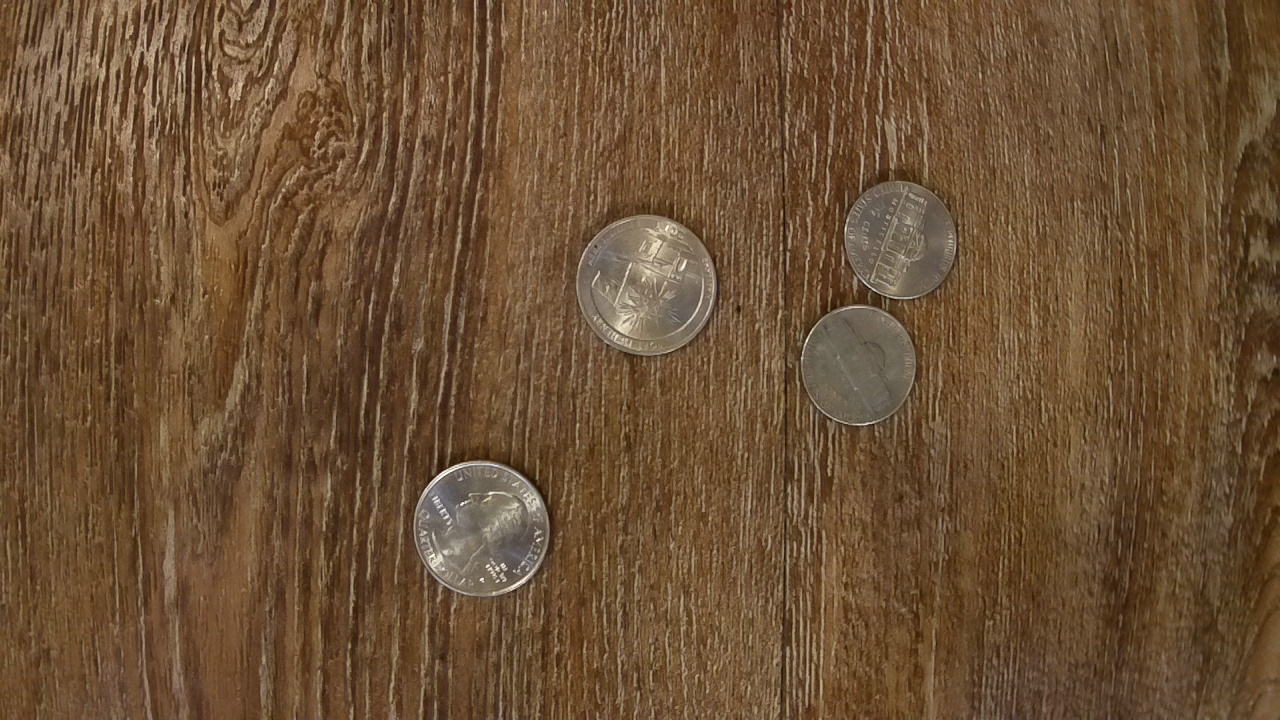nickel: (794, 302, 920, 430), (842, 173, 962, 305)
quarter: (576, 211, 718, 361), (413, 454, 551, 602)
